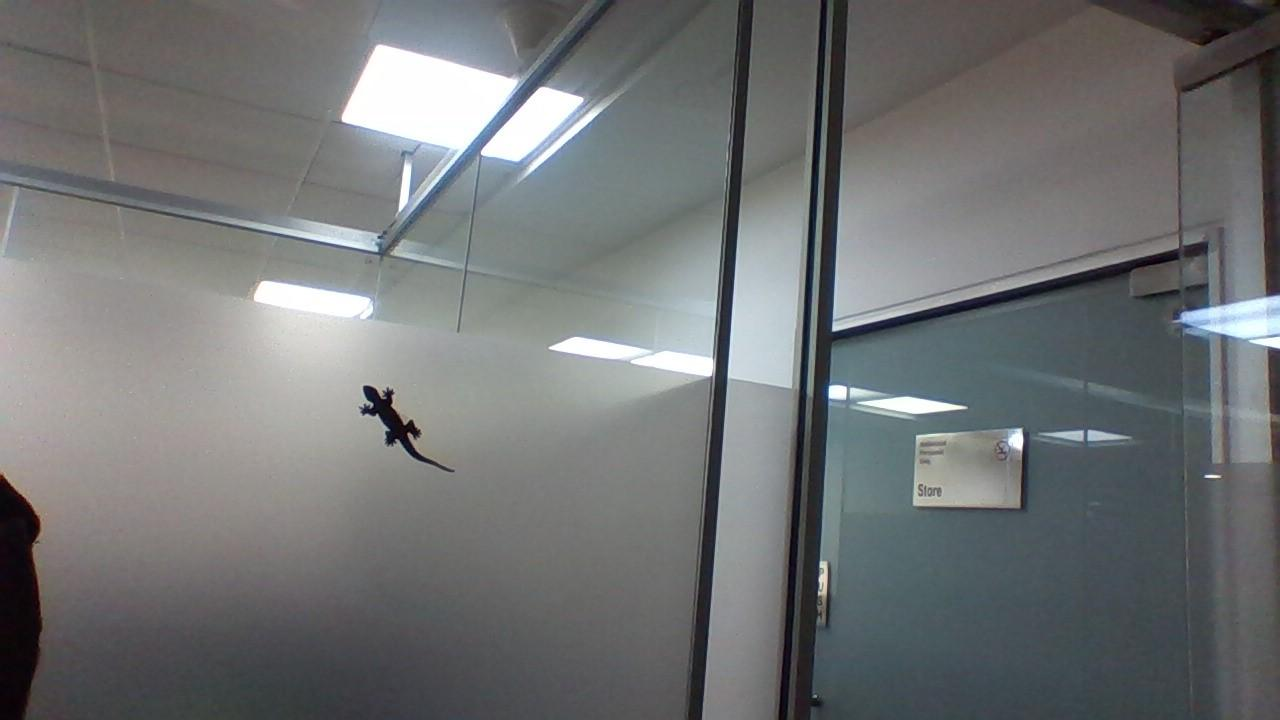lizard: (346, 372, 460, 477)
